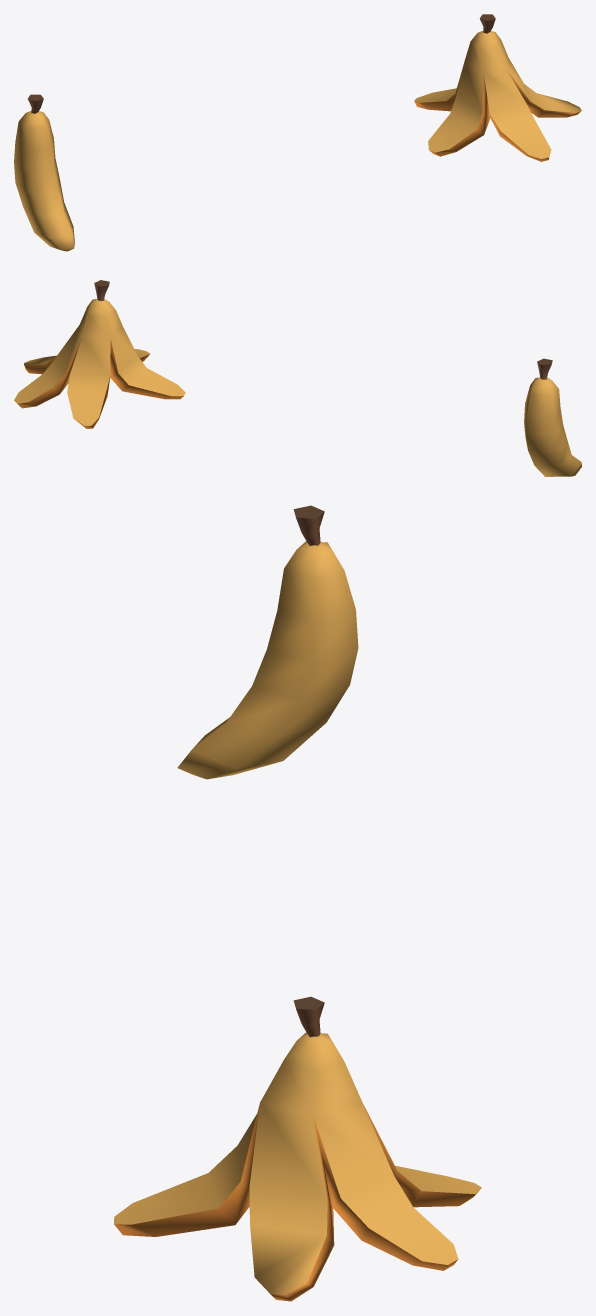
File: banana.fbx
3 renders of one model, top to bottom at view 1: azimuth 30°, elevation 25°; view 2: azimuth 150°, elevation 25°; view 3: azimuth 270°, elevation 25°, orthographic. The views are drawn at different scales.
Parts seen in each view (by area): view 1: Banana Peel, Banana; view 2: Banana Peel, Banana; view 3: Banana Peel, Banana.
Boxes of the visible parts, left/top/right/bottom form: Banana Peel: left=414, top=14, right=581, bottom=161; Banana: left=14, top=94, right=74, bottom=251; Banana Peel: left=14, top=280, right=185, bottom=428; Banana: left=524, top=358, right=581, bottom=476; Banana Peel: left=114, top=996, right=481, bottom=1301; Banana: left=177, top=505, right=358, bottom=779.
Size of the model in its own units: 1.23 by 0.2993 by 0.3601.
